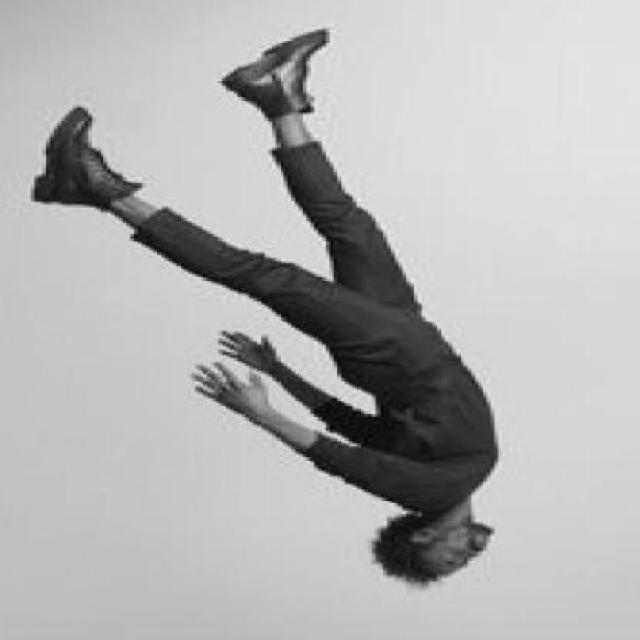fall: (21, 24, 502, 590)
